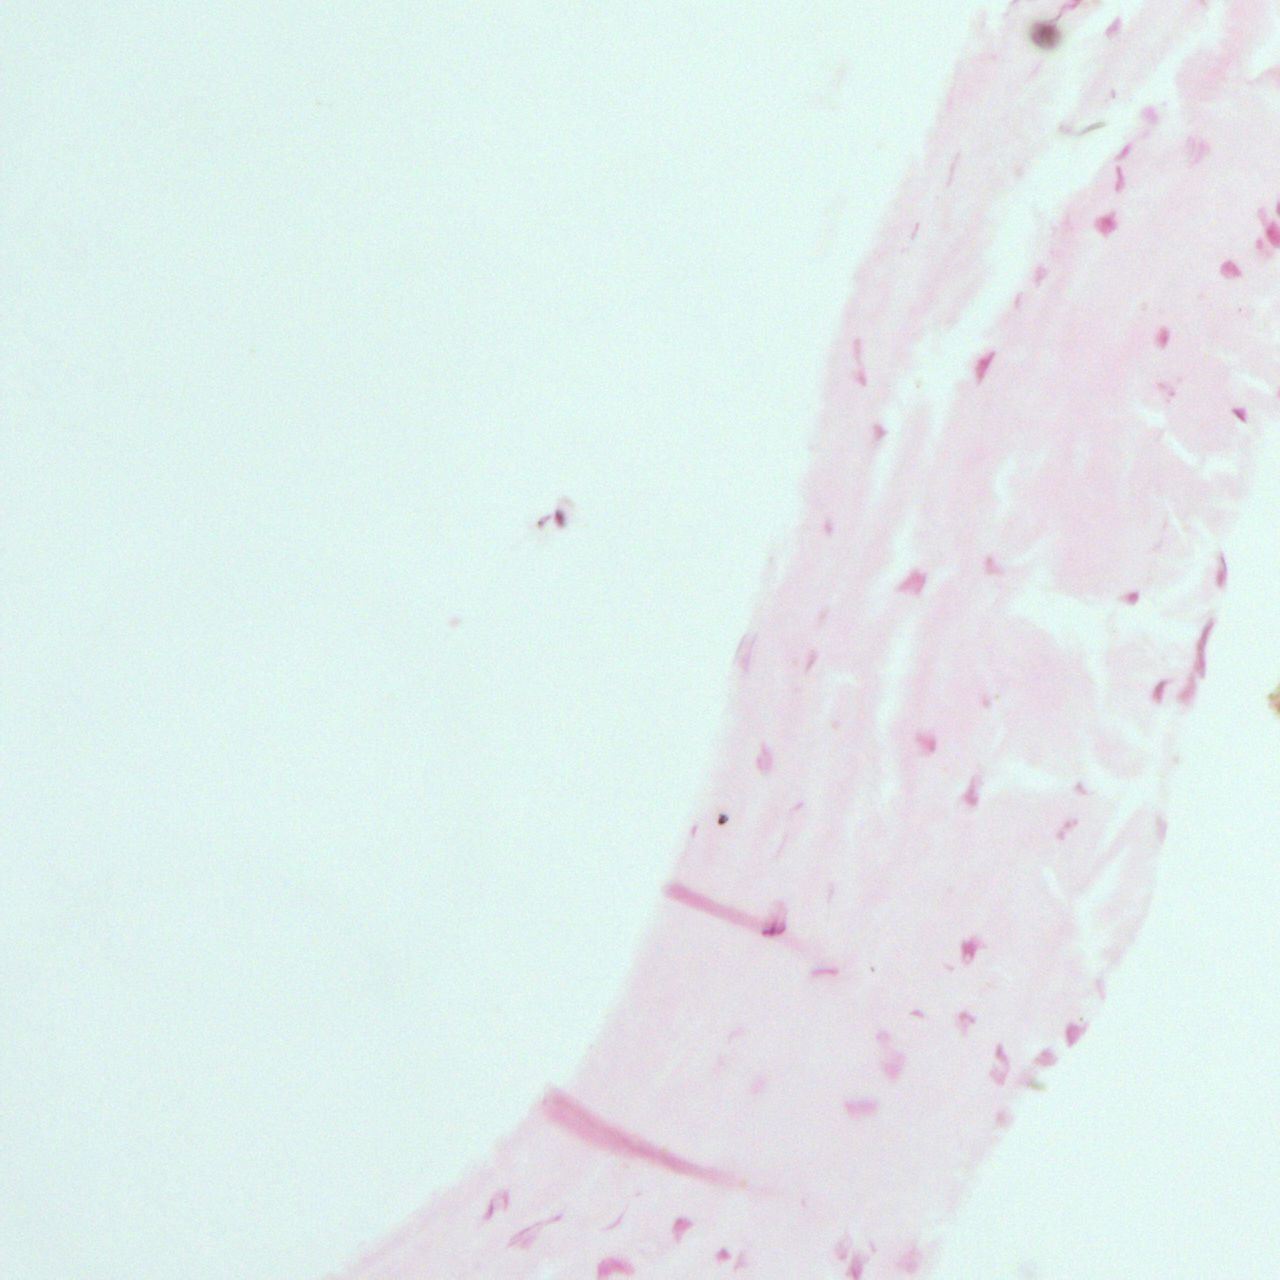dust: (717, 813, 728, 824), (537, 520, 543, 527)
nucleus-AC: (508, 1213, 566, 1246), (983, 1043, 1017, 1084), (1192, 618, 1216, 676), (1172, 672, 1203, 708), (847, 338, 870, 387), (898, 566, 928, 598), (599, 1205, 632, 1234), (959, 774, 987, 808), (971, 347, 996, 383), (483, 1190, 511, 1218), (598, 1259, 633, 1279), (1014, 1065, 1039, 1092), (668, 1216, 693, 1242), (845, 1099, 879, 1118), (1102, 15, 1126, 41), (913, 730, 937, 756), (1095, 211, 1118, 236), (1062, 1022, 1084, 1046), (1114, 139, 1136, 163), (962, 938, 982, 964), (1151, 675, 1171, 701), (847, 1252, 866, 1279), (880, 1058, 903, 1080), (954, 1012, 974, 1035), (900, 1248, 919, 1273), (756, 742, 771, 771), (1216, 552, 1227, 588), (802, 648, 818, 673), (1230, 403, 1250, 423), (1155, 325, 1170, 350), (1034, 1048, 1056, 1065), (835, 1232, 849, 1258), (1219, 261, 1242, 277), (1114, 165, 1124, 195), (1141, 107, 1158, 124), (985, 557, 1001, 576), (761, 922, 785, 934), (811, 967, 840, 976), (1157, 817, 1166, 844), (996, 1110, 1012, 1126), (1034, 265, 1046, 286), (874, 423, 887, 441), (1097, 978, 1107, 1001), (553, 510, 565, 527), (876, 1032, 891, 1044), (822, 518, 832, 536), (716, 1248, 729, 1262), (1125, 591, 1139, 604), (979, 697, 993, 708), (1014, 291, 1022, 308), (1073, 782, 1085, 792), (908, 1009, 924, 1017), (1057, 830, 1068, 840), (1255, 237, 1262, 250), (692, 825, 697, 837), (1073, 818, 1080, 828), (1063, 819, 1070, 828)
